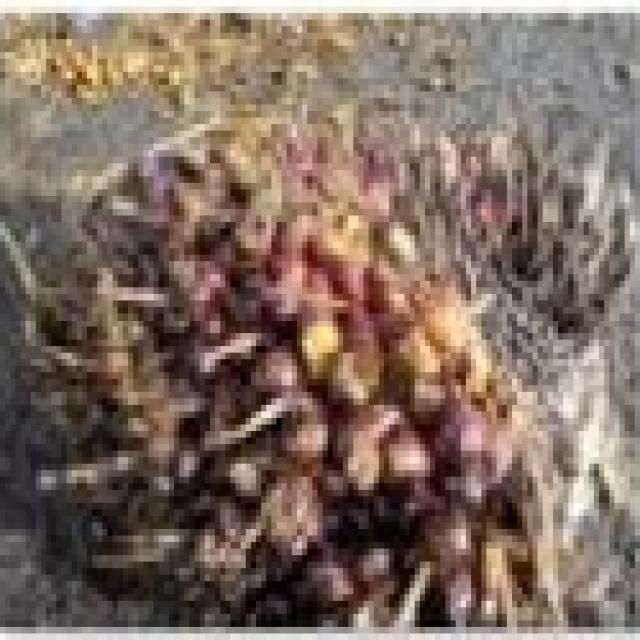FFB: (22, 134, 640, 630)
